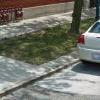Car: (73, 16, 100, 67)
